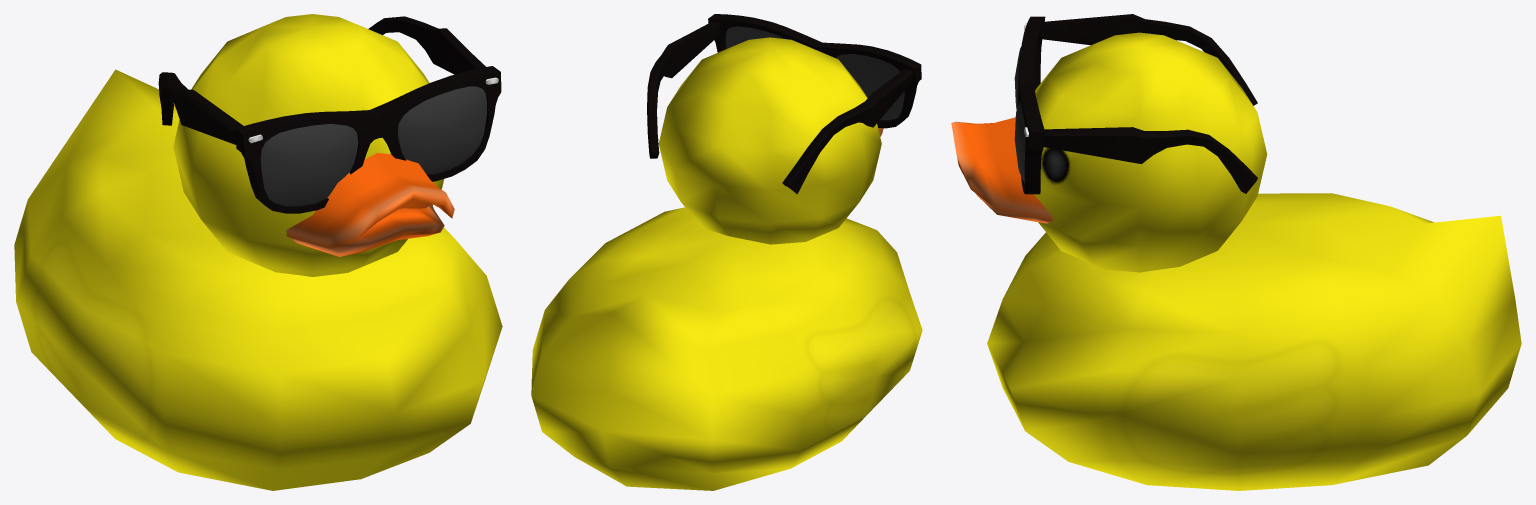
3 renders of one model, left to right at view 1: azimuth 30°, elevation 25°; view 2: azimuth 150°, elevation 25°; view 3: azimuth 270°, elevation 25°, orthographic. The views are drawn at different scales.
Visible parts, largest first — view 1: duck.001, duck; view 2: duck.001, duck; view 3: duck.001, duck.
Part boxes in pixels (left/top/right/bottom): duck.001: left=14, top=14, right=502, bottom=490; duck: left=158, top=16, right=501, bottom=213; duck.001: left=531, top=37, right=922, bottom=490; duck: left=647, top=14, right=921, bottom=194; duck.001: left=951, top=32, right=1521, bottom=490; duck: left=1014, top=14, right=1257, bottom=194.
Size of the model in its own units: 1.94 by 2.07 by 2.8.
Materials: 2 (2 with a texture image).
